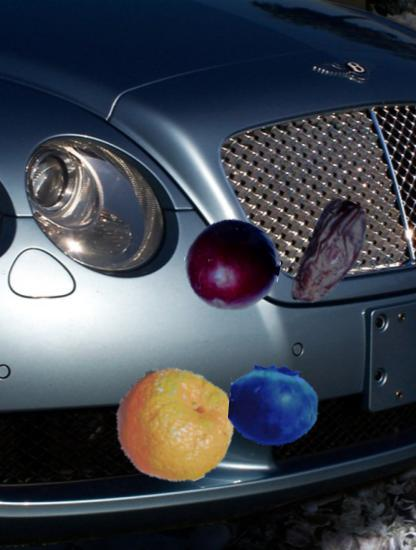Dates: (273, 197, 387, 311)
Huckleberry: (229, 360, 320, 451)
Mandarine: (115, 362, 237, 484)
Plum: (184, 217, 280, 313)
